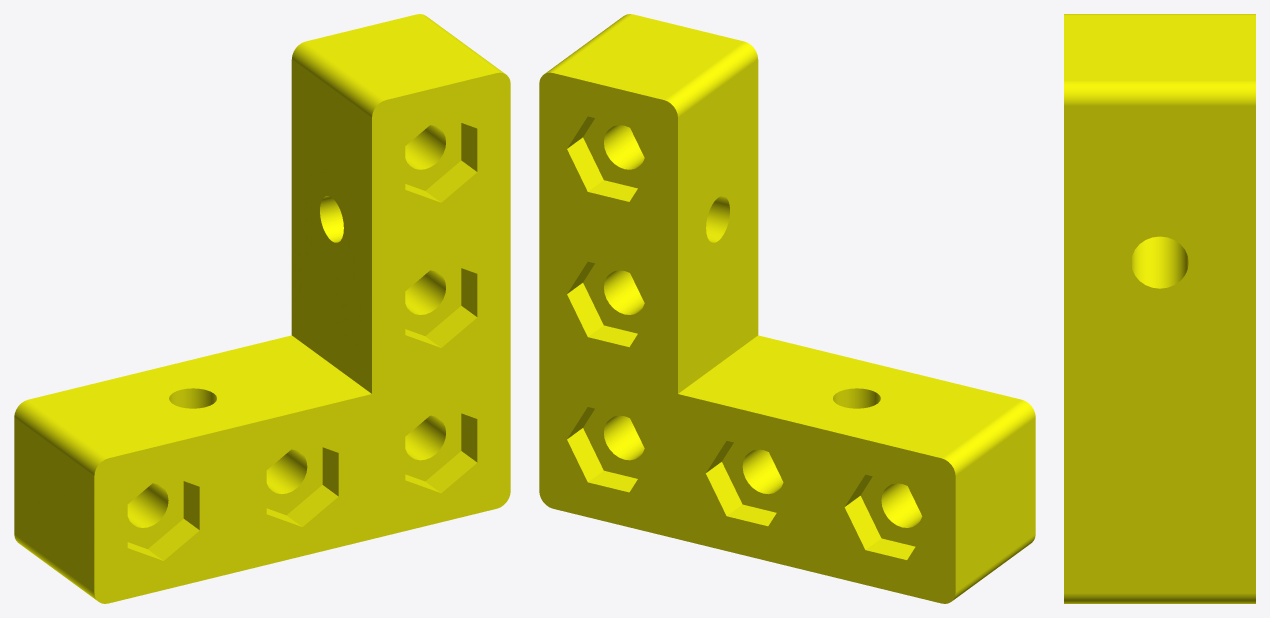
The model's file is L5S_yellow.glb.
3 renders of one model, left to right at view 1: azimuth 30°, elevation 25°; view 2: azimuth 150°, elevation 25°; view 3: azimuth 270°, elevation 25°, orthographic. The views are drawn at different scales.
Visible parts, largest first — view 1: L5S_yellow; view 2: L5S_yellow; view 3: L5S_yellow.
Boxes of the visible parts, bbox=[...] form: L5S_yellow: bbox=[14, 14, 510, 603]; L5S_yellow: bbox=[539, 14, 1035, 603]; L5S_yellow: bbox=[1064, 14, 1255, 603].
Size of the model in its own units: 0.03 by 0.03 by 0.01.
